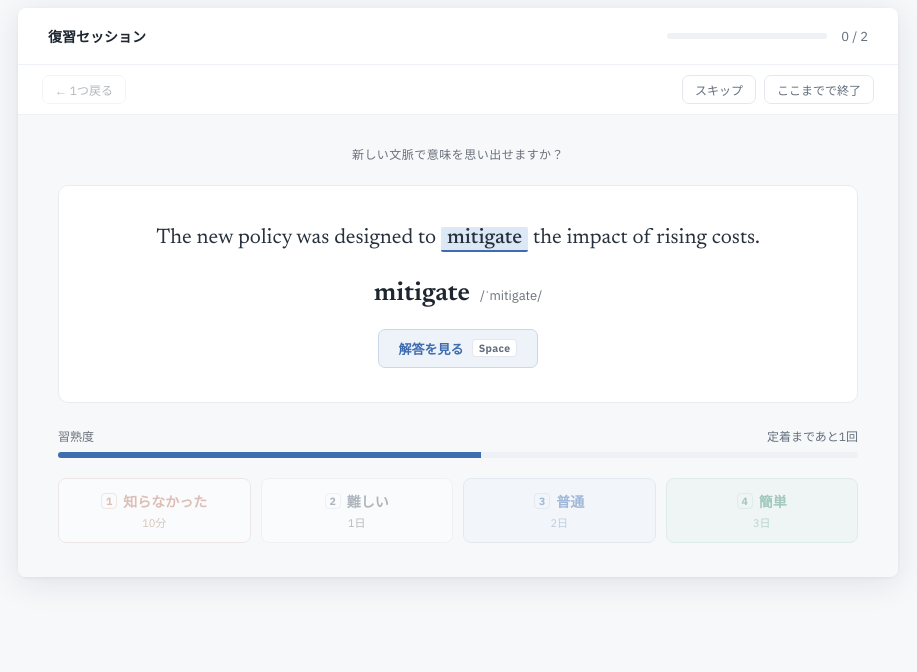
Test: <ReviewSession/> › reveal → rate advances and reports the prior + simulated state
Step 1. Click the button with test id "review-reveal" → (458, 348), box [378,329,538,368]
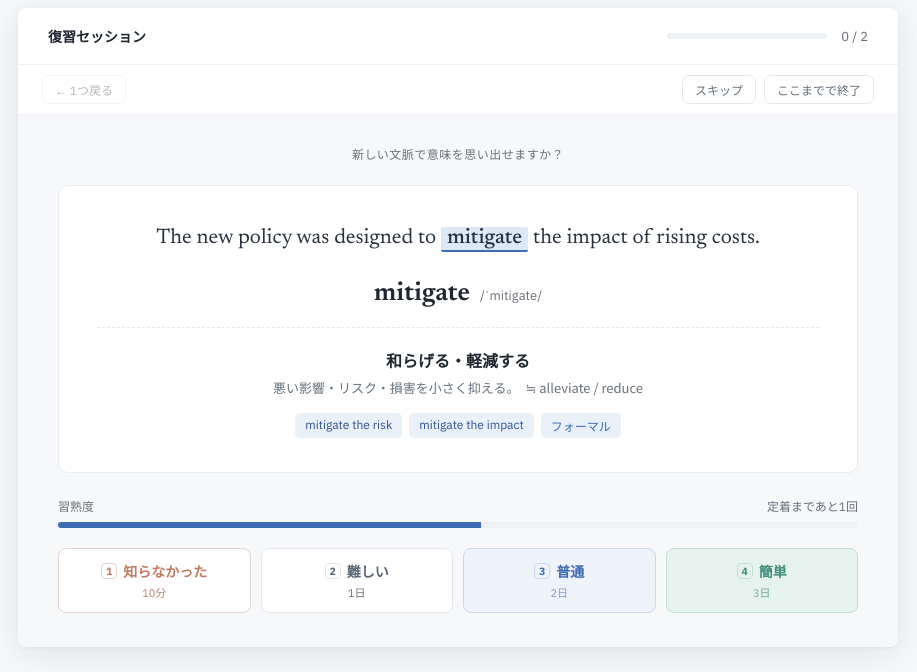
Step 2. Click the button with test id "rate-3" → (559, 580), box [463,548,656,613]
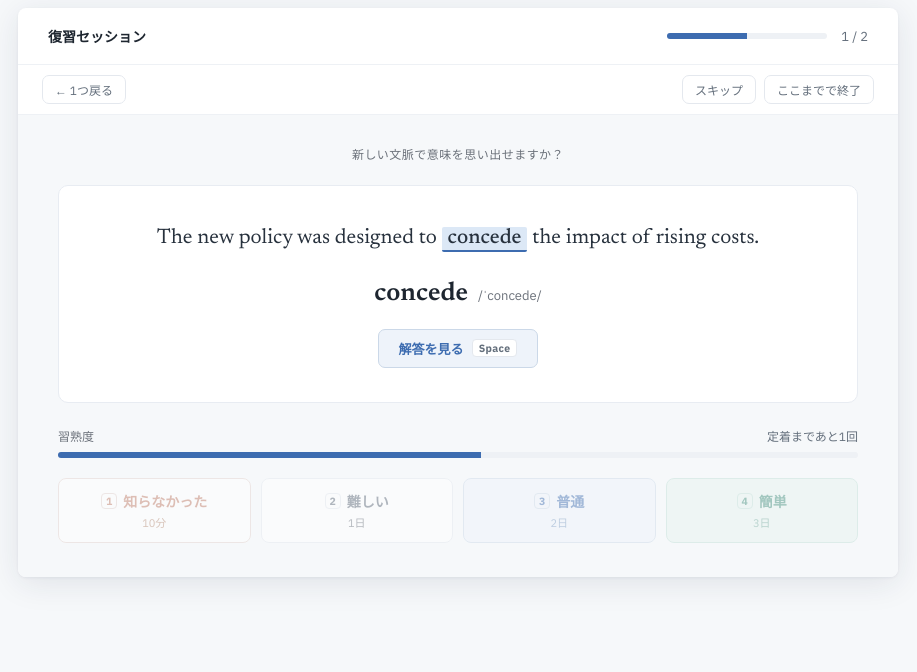
Expected: the text with test id "review-target" reads "concede", [448,228,522,249]
Expected: the text with test id "review-counter" reads "1 / 2", [841,28,868,44]
